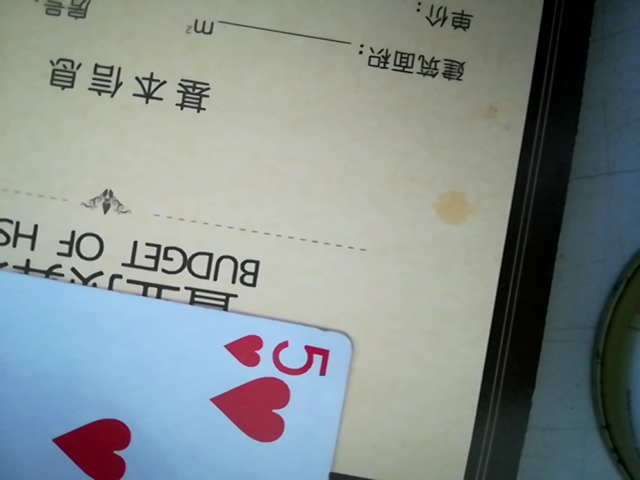hx 5: (1, 264, 364, 480)
